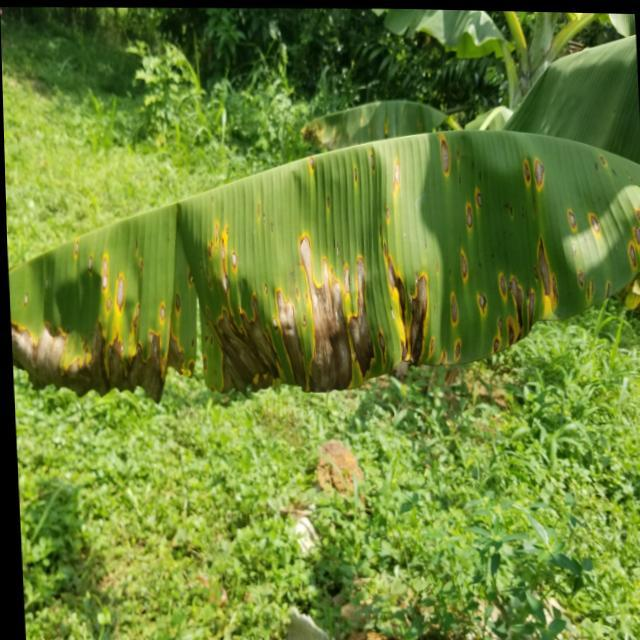Early_rust: (17, 135, 640, 420)
